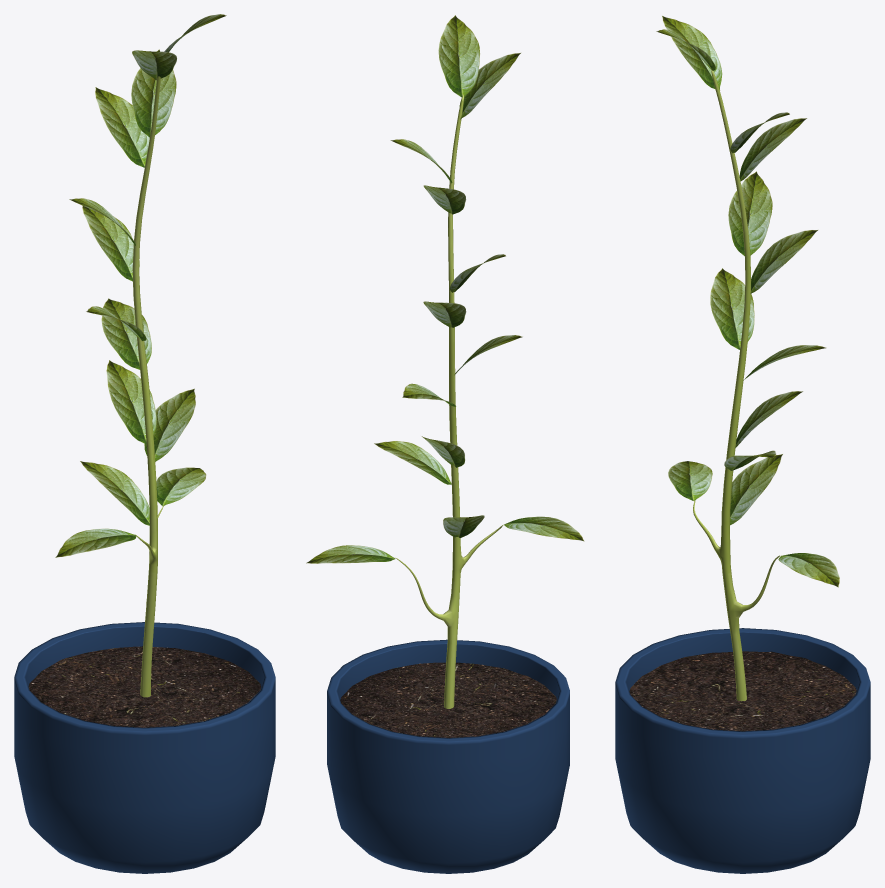
The picture shows the model from 3 angles, left to right: view 1: azimuth 30°, elevation 25°; view 2: azimuth 150°, elevation 25°; view 3: azimuth 270°, elevation 25°; orthographic projection. The views are drawn at different scales.
Parts seen in each view (by area): view 1: Object_2, Object_5, Object_3, Object_4; view 2: Object_2, Object_3, Object_5, Object_4; view 3: Object_2, Object_5, Object_3, Object_4.
Part boxes in pixels (<box>): Object_2: <box>14,622,275,873</box>; Object_5: <box>55,14,226,557</box>; Object_3: <box>28,646,261,727</box>; Object_4: <box>132,76,163,697</box>; Object_2: <box>327,639,569,873</box>; Object_3: <box>340,662,556,737</box>; Object_5: <box>306,15,584,563</box>; Object_4: <box>396,95,502,708</box>; Object_2: <box>615,628,870,873</box>; Object_5: <box>656,16,839,587</box>; Object_3: <box>629,651,856,731</box>; Object_4: <box>693,70,779,701</box>.
Bounding box in the file's own units: 0.1876 × 0.65 × 0.1827.
4 materials, 3 textured.
